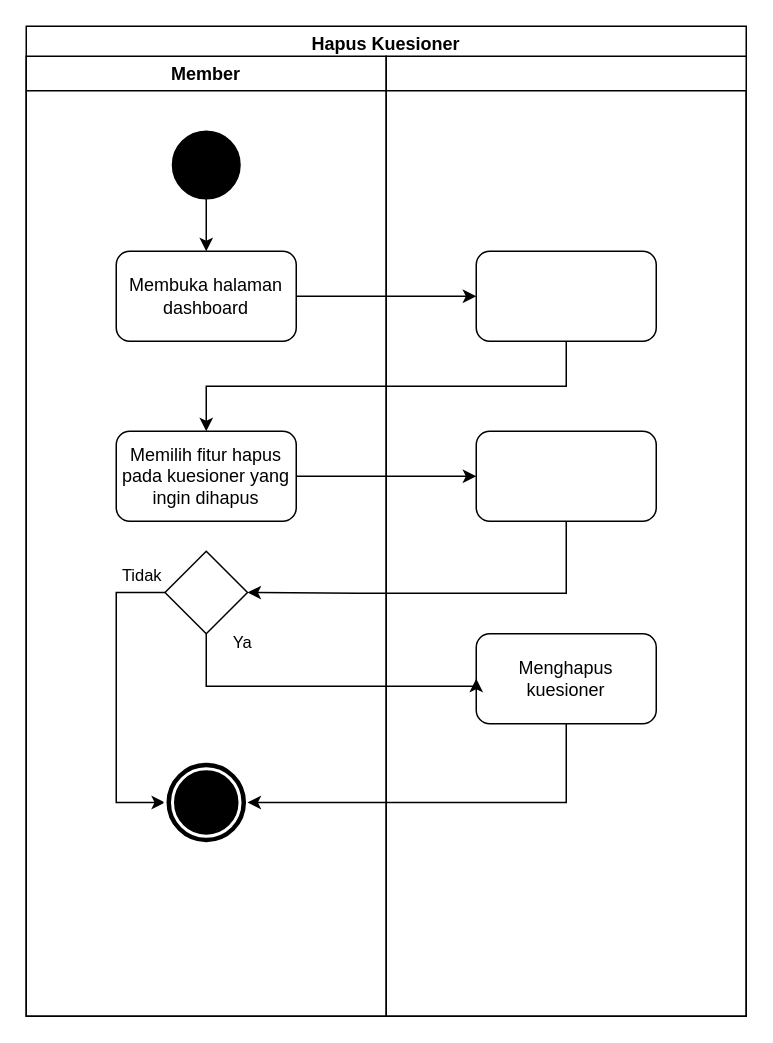
This 773x1043 diagram has some shape labels left out. The box of each missing label's shape, as (x1, y1, x2, y2) in pixels:
Menampilkan dialog konfirmasi: (475, 430, 656, 521)
Menampilkan halaman dashboard: (475, 250, 656, 341)
Sistem: (385, 55, 746, 1016)
